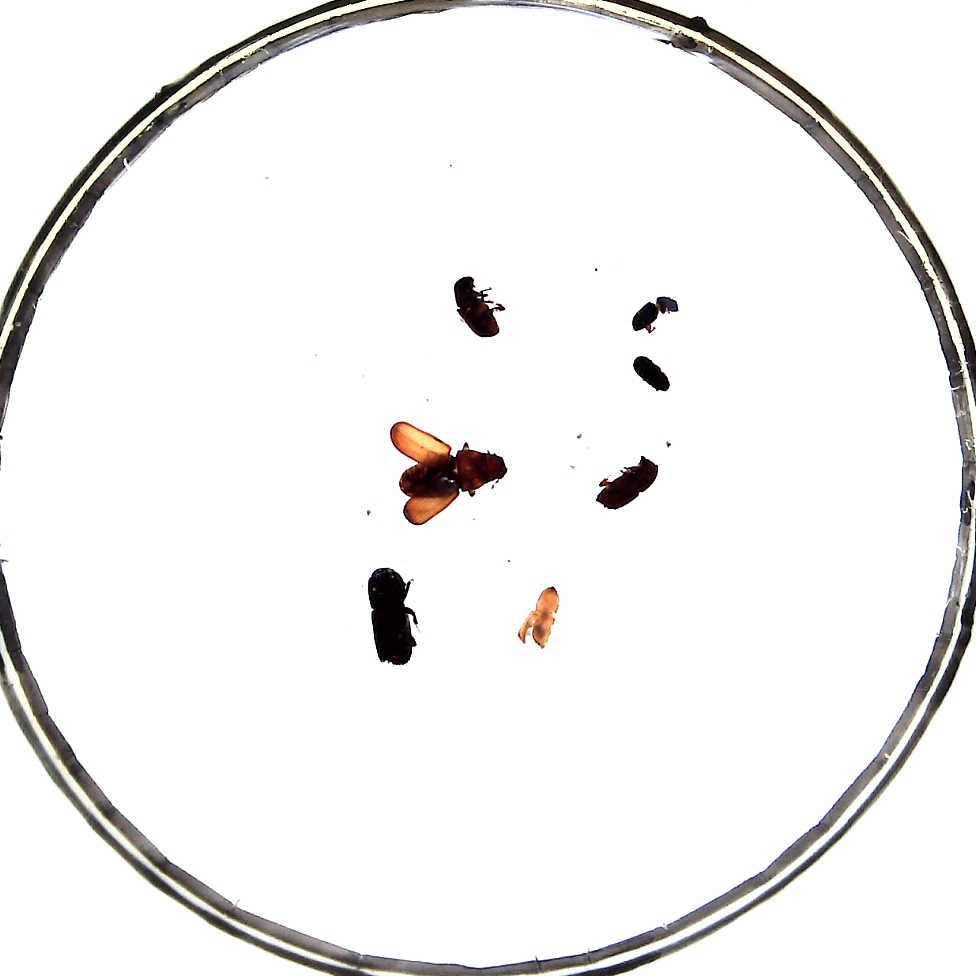Boerner: (368, 567, 412, 666)
Leconte: (399, 451, 507, 497)
acuminatus: (632, 296, 678, 331), (632, 355, 671, 391)
armandi: (454, 276, 500, 338)
coleoptera: (518, 587, 559, 648)
linnaeus: (596, 454, 659, 510)
